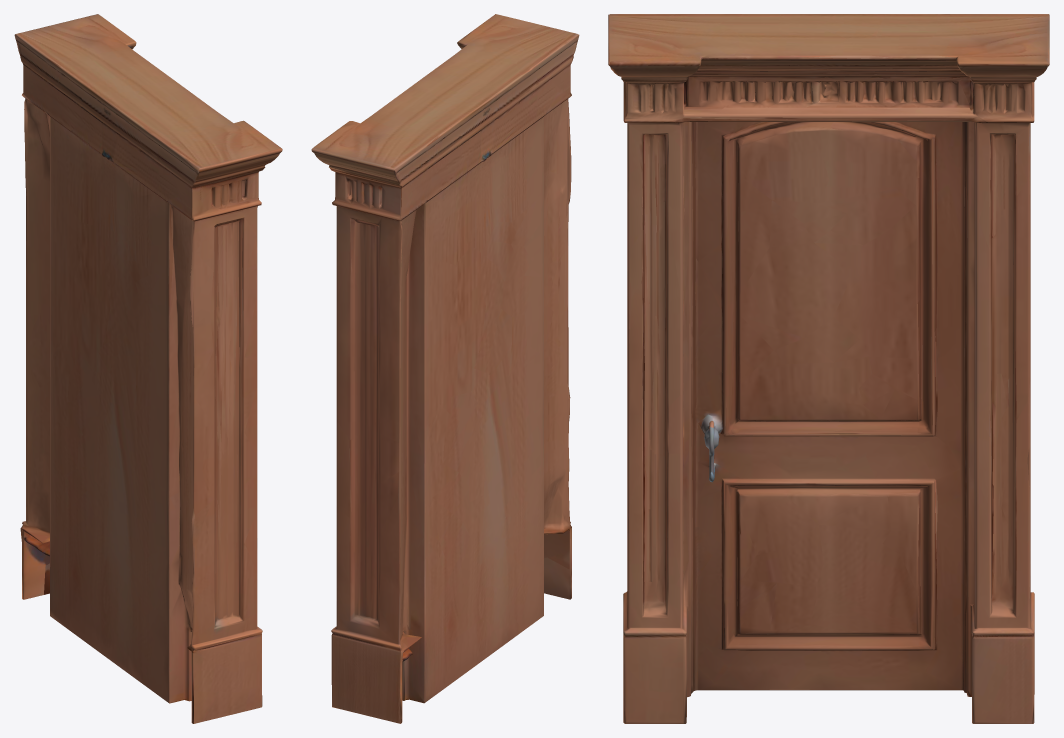
Rendered from TripoModel.glb.
The picture shows the model from 3 angles, left to right: view 1: azimuth 30°, elevation 25°; view 2: azimuth 150°, elevation 25°; view 3: azimuth 270°, elevation 25°; orthographic projection. The views are drawn at different scales.
Parts seen in each view (by area): view 1: tripo_node_9745fbc7-4de8-4712-a87b-902a1ee04215; view 2: tripo_node_9745fbc7-4de8-4712-a87b-902a1ee04215; view 3: tripo_node_9745fbc7-4de8-4712-a87b-902a1ee04215.
Part boxes in pixels (x1=…): tripo_node_9745fbc7-4de8-4712-a87b-902a1ee04215: x1=14, y1=14, x2=282, y2=723; tripo_node_9745fbc7-4de8-4712-a87b-902a1ee04215: x1=311, y1=14, x2=579, y2=723; tripo_node_9745fbc7-4de8-4712-a87b-902a1ee04215: x1=608, y1=14, x2=1049, y2=723.
Bounding box in the file's own units: 0.1591 × 0.9999 × 0.5973.
Materials: 1 (1 with a texture image).
